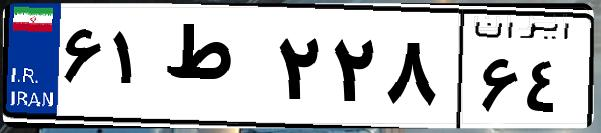1: (110, 28, 158, 98)
2: (270, 28, 330, 110), (330, 28, 385, 110)
4: (525, 38, 570, 115)
6: (57, 26, 110, 100), (475, 38, 525, 113)
8: (385, 28, 445, 110)
ط: (158, 20, 270, 120)
